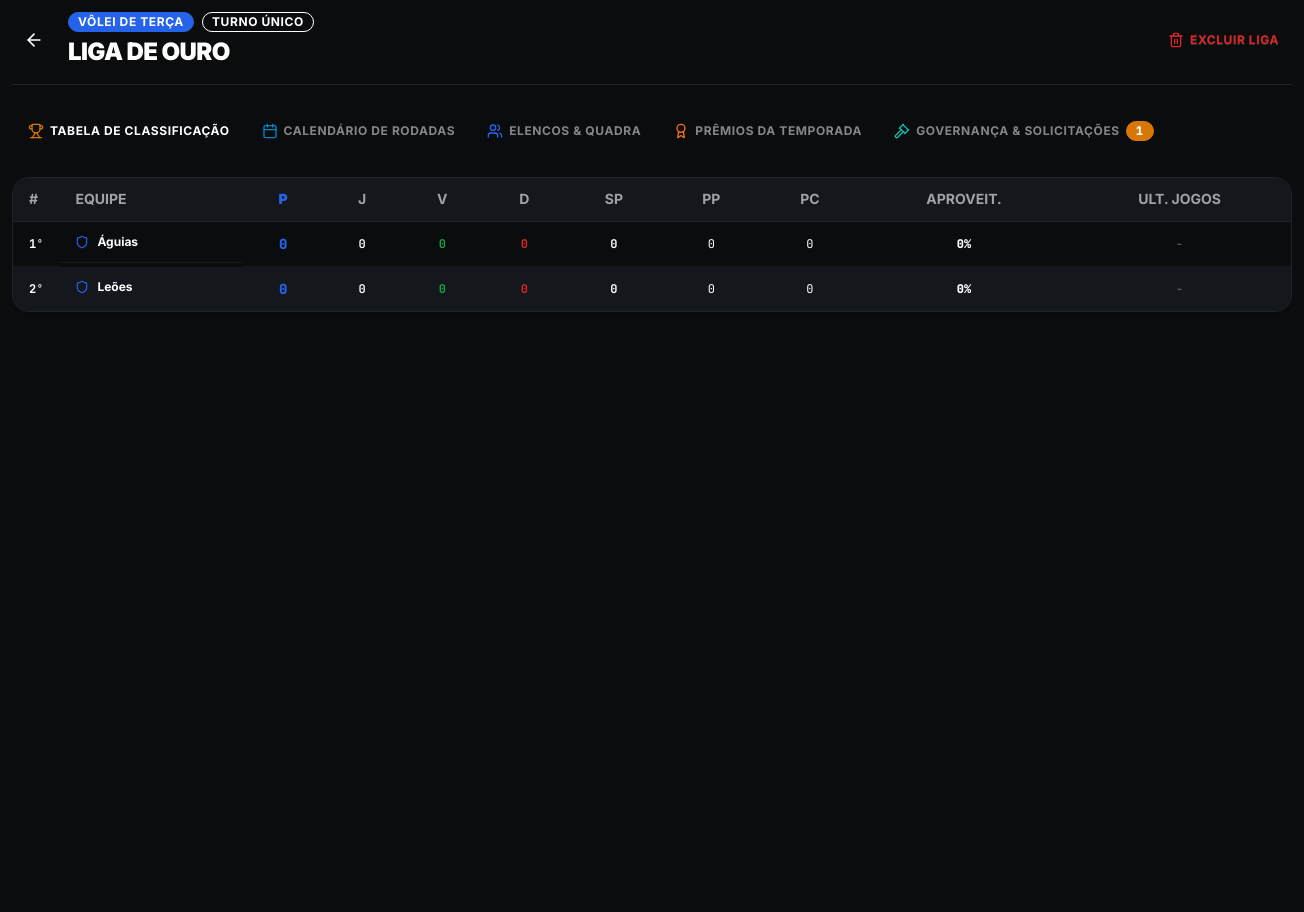
Test: ChampionshipDetailView › o formulário recusa um pedido sem rodada, equipe ou data
The image size is (1304, 912).
Click the button "Governança & Solicitações 1": (1024, 131) top-left (878, 109), bottom-right (1170, 153)
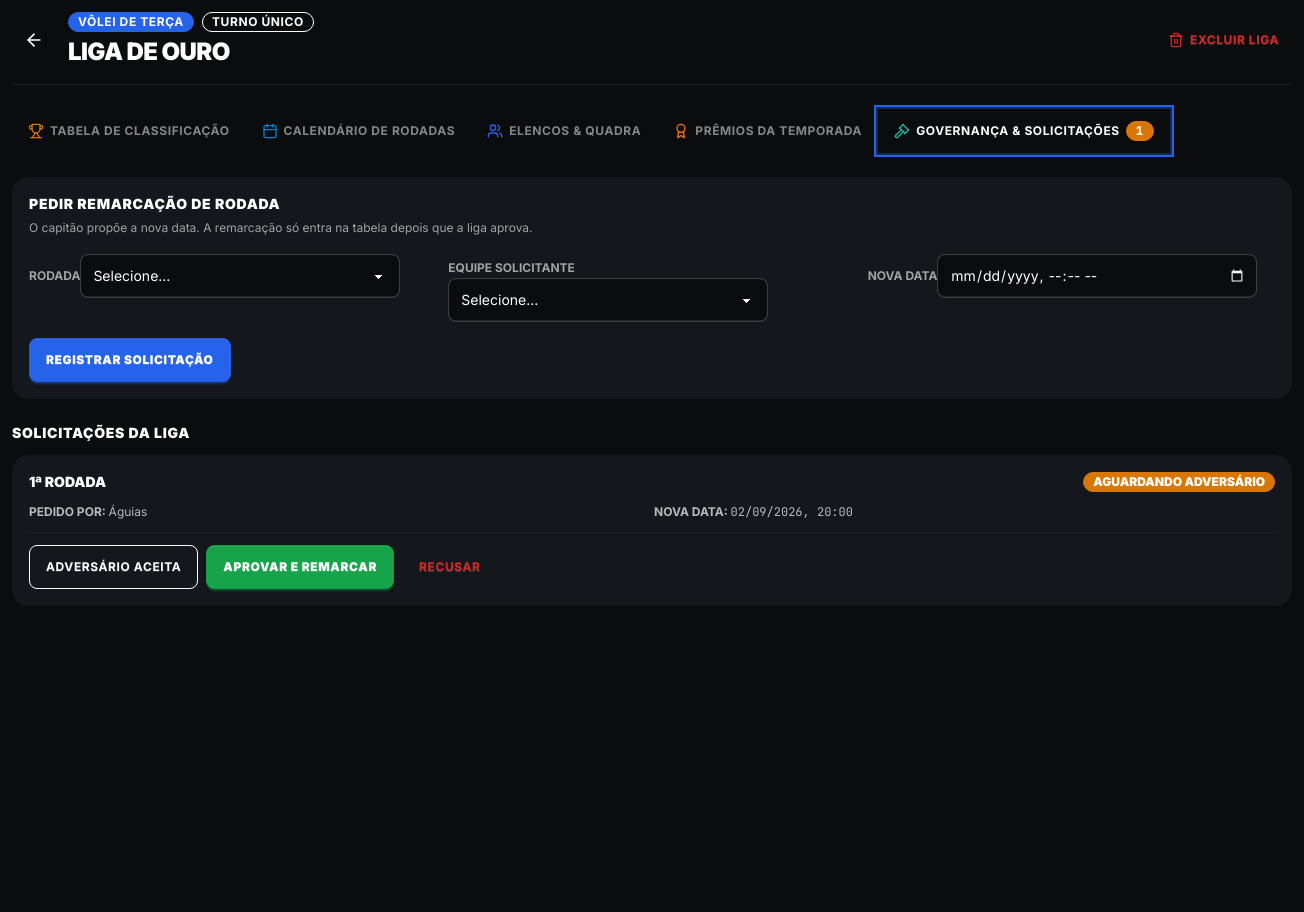
Click the button "Registrar solicitação": (130, 360) top-left (29, 338), bottom-right (230, 382)
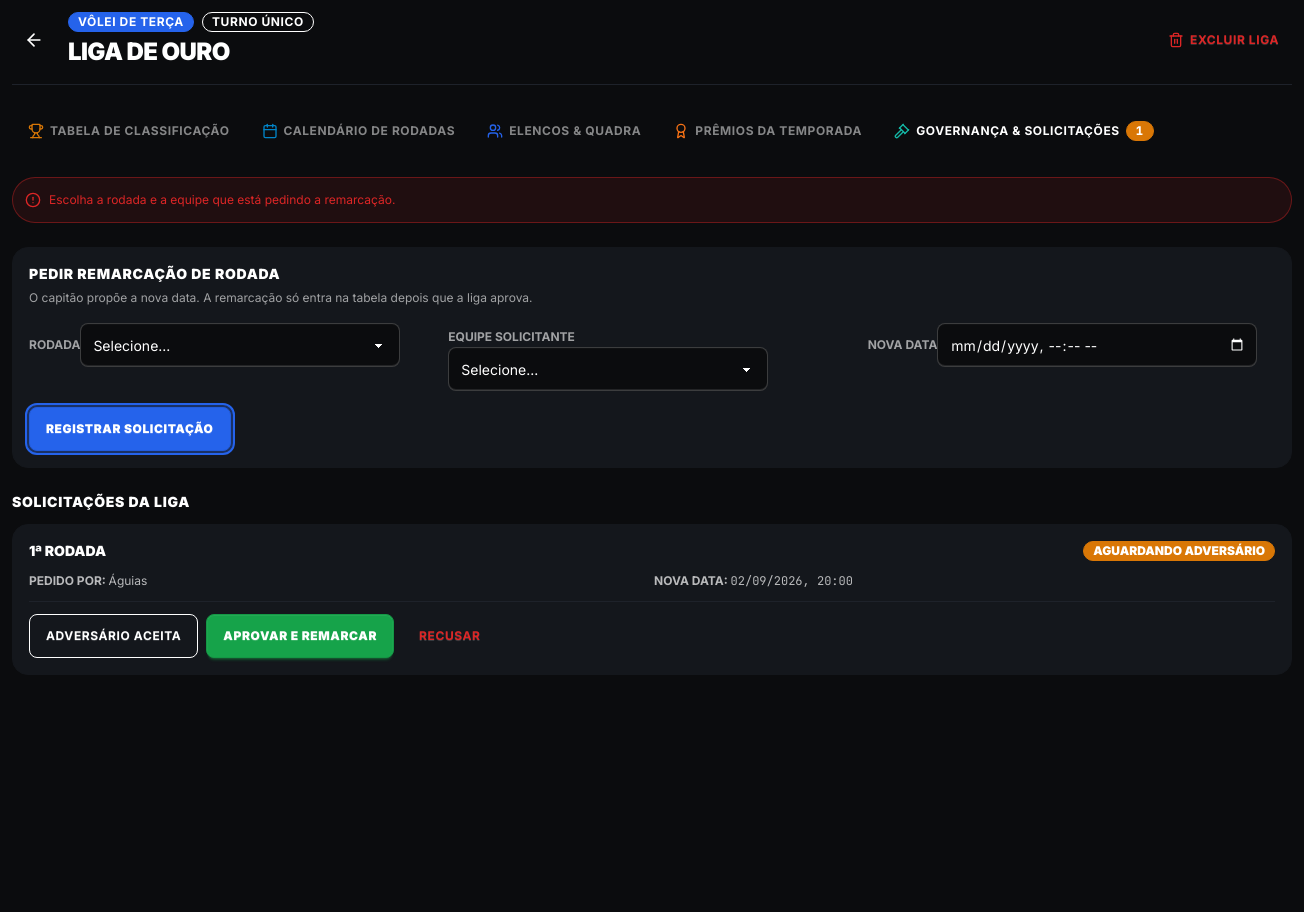
expect the message shows "Escolha a rodada": met, box top-left (49, 192), bottom-right (395, 207)
